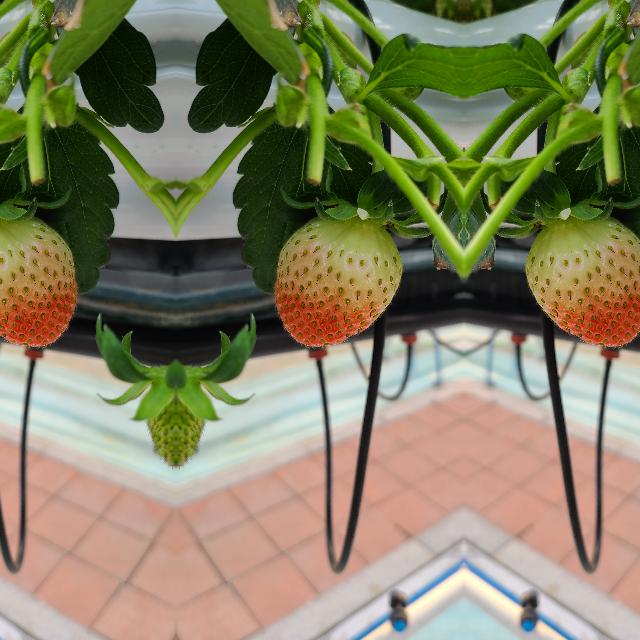Health_50: (270, 216, 404, 350), (522, 216, 640, 349), (0, 216, 80, 349)
